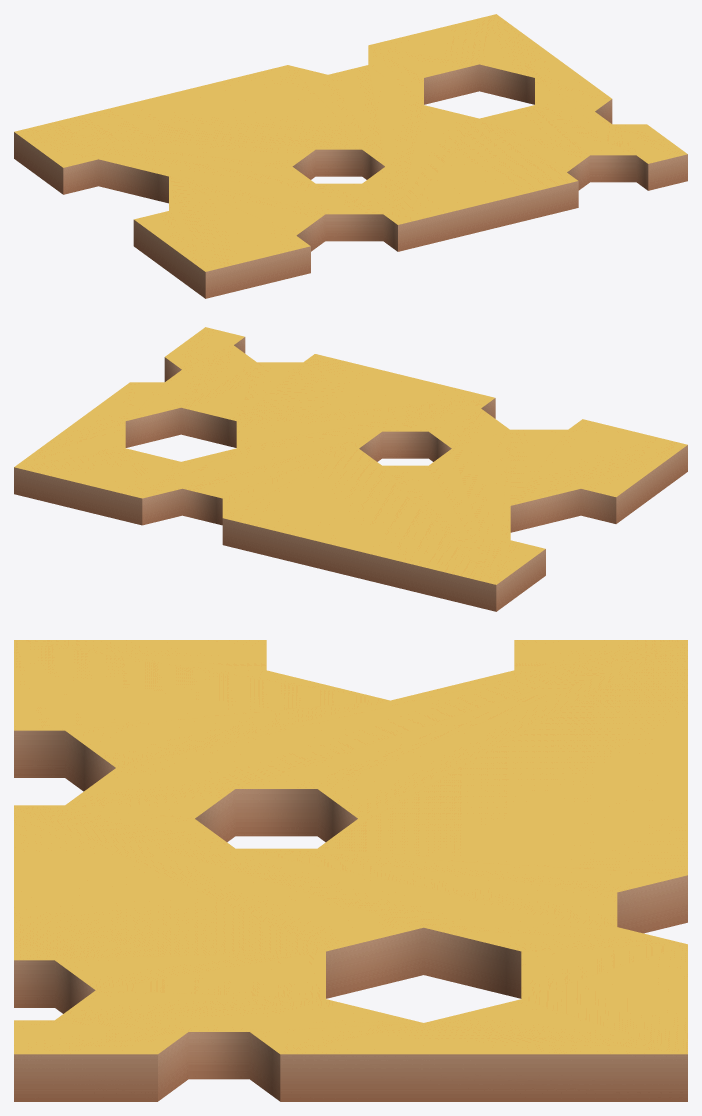
File: cheese-cut.glb
3 views of the same model, one above another, from view 1: azimuth 30°, elevation 25°; view 2: azimuth 150°, elevation 25°; view 3: azimuth 270°, elevation 25° (orthographic). The views are drawn at different scales.
Parts seen in each view (by area): view 1: cheese-cut; view 2: cheese-cut; view 3: cheese-cut.
Boxes of the visible parts, x1,y1,x2,y2 form: cheese-cut: (14,14,687,298); cheese-cut: (14,327,687,611); cheese-cut: (14,640,687,1101).
Bounding box in the file's own units: 0.384 × 0.0205 × 0.264.
Materials: 1 (1 with a texture image).
